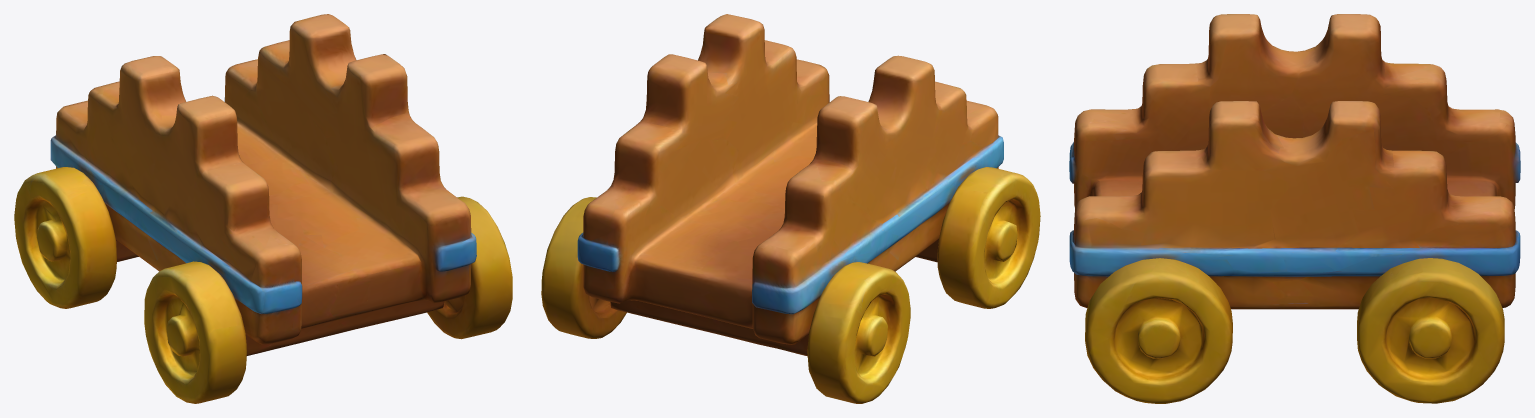
File: cannon-carriage.glb
3 renders of one model, left to right at view 1: azimuth 30°, elevation 25°; view 2: azimuth 150°, elevation 25°; view 3: azimuth 270°, elevation 25°, orthographic. The views are drawn at different scales.
Parts seen in each view (by area): view 1: cannon-carriage; view 2: cannon-carriage; view 3: cannon-carriage.
Part boxes in pixels (left/top/right/bottom): cannon-carriage: left=14, top=14, right=512, bottom=403; cannon-carriage: left=541, top=14, right=1040, bottom=403; cannon-carriage: left=1069, top=14, right=1520, bottom=403.
Size of the model in its own units: 1.05 by 0.826 by 1.28.
1 material, 1 textured.
